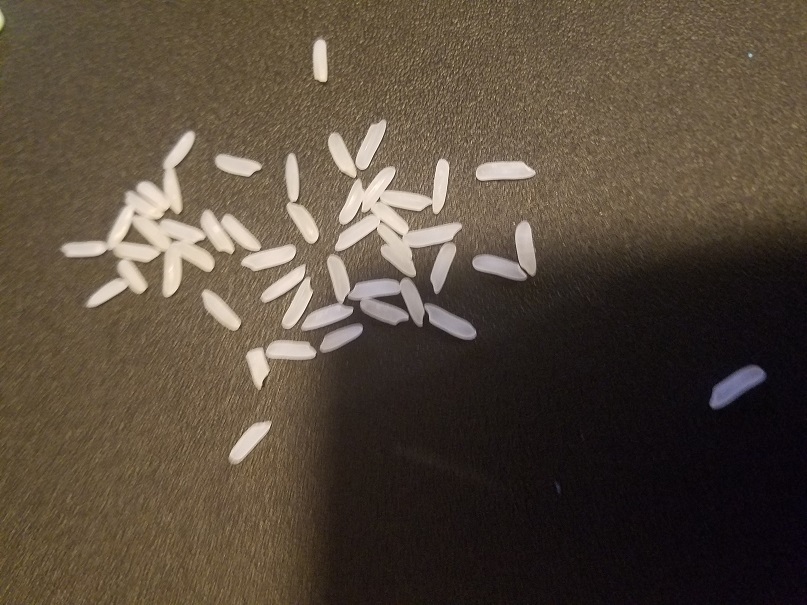egg: (707, 362, 772, 411), (226, 418, 274, 466), (423, 302, 480, 340), (258, 263, 310, 304), (330, 210, 381, 251), (396, 218, 465, 248), (197, 207, 237, 258), (218, 210, 264, 253), (469, 252, 532, 283), (357, 163, 396, 213), (158, 128, 200, 173), (281, 274, 314, 331), (324, 130, 360, 182), (312, 320, 367, 354), (199, 286, 240, 331), (298, 299, 353, 332), (396, 275, 427, 333), (355, 117, 387, 173), (82, 274, 130, 311), (240, 243, 298, 273), (129, 212, 172, 252), (512, 218, 539, 281), (426, 241, 457, 295), (359, 294, 409, 327), (283, 201, 321, 244), (371, 198, 411, 236), (324, 252, 353, 304), (242, 345, 273, 392), (104, 205, 134, 253), (114, 255, 149, 296), (176, 240, 217, 275), (378, 187, 432, 213), (473, 159, 536, 181), (345, 277, 400, 302), (379, 243, 420, 276), (158, 217, 206, 245), (334, 180, 363, 226), (214, 153, 263, 180), (264, 338, 319, 361), (161, 240, 181, 303), (429, 155, 450, 215), (135, 178, 169, 215), (111, 240, 161, 265), (161, 161, 184, 215), (122, 191, 164, 220), (56, 237, 109, 256), (283, 152, 301, 204), (375, 220, 405, 251), (309, 37, 328, 84)
